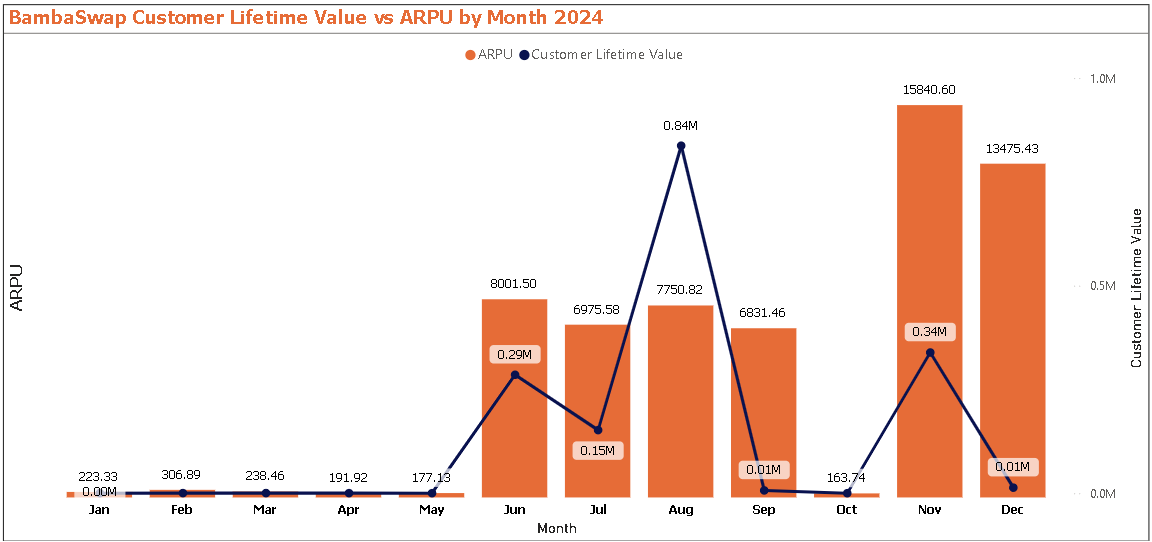

The dashboard page shown, as its layout file describes it:
{"tool":"powerbi","page":{"name":"clv","canvas":[1280,720],"ordinal":5},"visuals":[{"type":"areaChart","title":"ARPU vs Customer Lifetime Value ","fields":{"Category":["clv_2024 oct.month"],"Y":["Sum(clv_2024 oct.arpu)"],"Y2":["Sum(clv_2024 oct.customer_lifetime_value)"]},"box":[50,59.2,1198.7,603.9],"z":0}]}

Visuals, with their boxes on the page's 1280x720 design canvas (x1, y1, x2, y2). These are canvas units, not pixel positions in the 1152x542 screenshot, which may show the page scaled, cropped or inside an application window:
"ARPU vs Customer Lifetime Value " areaChart: 50:59:1249:663
